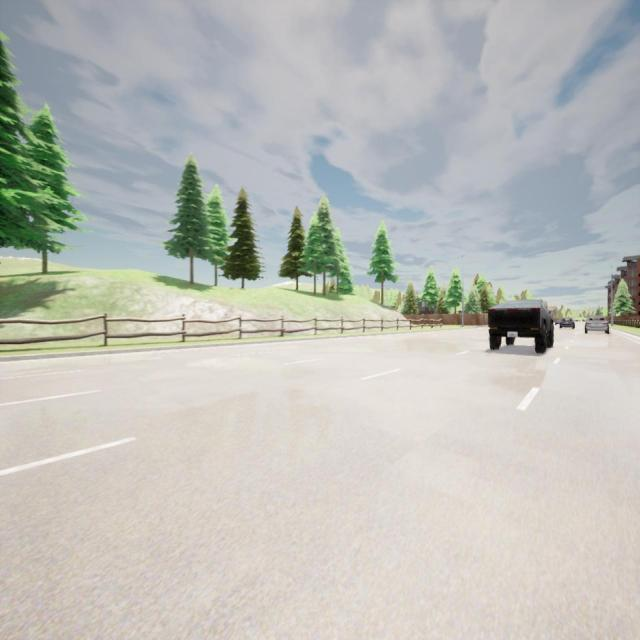Vehicle: (488, 299, 553, 355), (583, 316, 610, 334), (559, 317, 575, 329), (555, 320, 560, 326)
